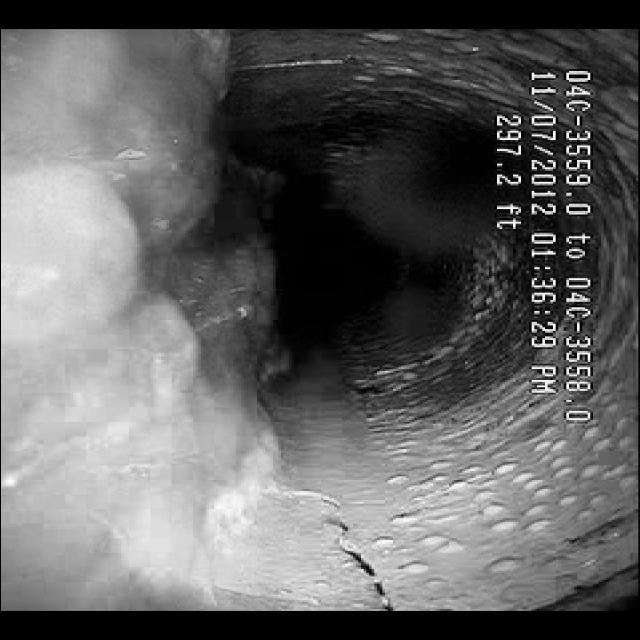Fracture: (282, 482, 392, 608)
